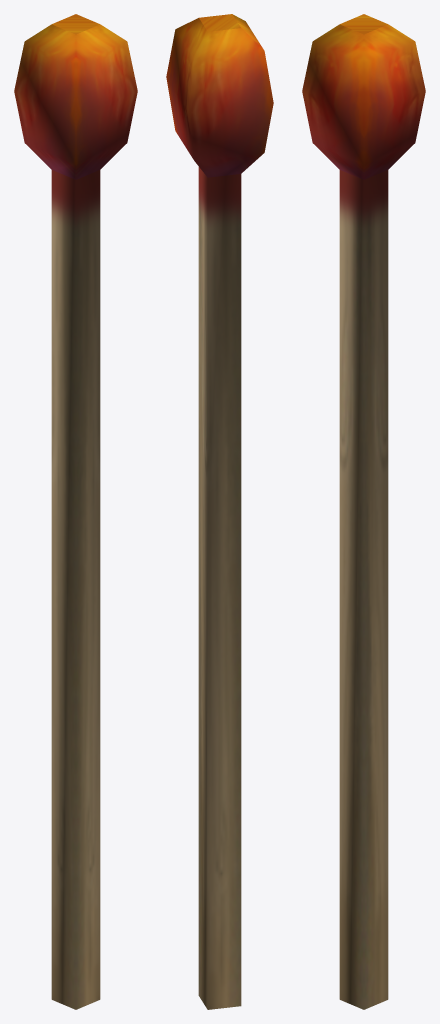
The model's file is Props_dianhuobang_01.FBX.
3 renders of one model, left to right at view 1: azimuth 90°, elevation 25°; view 2: azimuth 150°, elevation 25°; view 3: azimuth 270°, elevation 25°, orthographic.
Visible parts, largest first — view 1: Props_dianhuobang_01; view 2: Props_dianhuobang_01; view 3: Props_dianhuobang_01.
Part boxes in pixels (x1=…): Props_dianhuobang_01: x1=14, y1=14, x2=137, y2=1009; Props_dianhuobang_01: x1=166, y1=14, x2=273, y2=1009; Props_dianhuobang_01: x1=302, y1=14, x2=425, y2=1009.
Size of the model in its own units: 0.9469 by 8.24 by 0.9469.
Materials: 1 (1 with a texture image).
